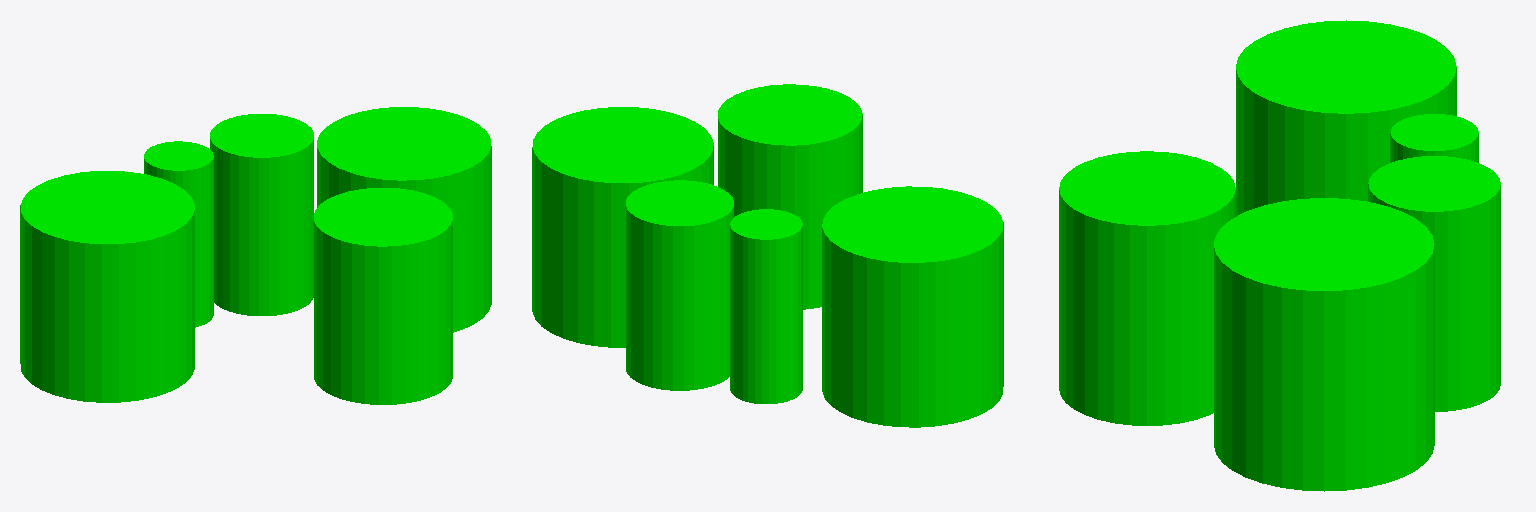
URDF robot description (walls):
<?xml version="1.0"?>
<robot name="walls">

   <link name="base_link">
      <inertial>
         <mass value="1"/>
         <inertia ixx="1" ixy="0" ixz="0" iyy="1" iyz="0" izz="1"/>
      </inertial>
   </link>

   <link name="obs0_link">
      <visual>
         <geometry>
            <cylinder radius="0.5" length="1.0"/>
         </geometry>
         <material name="green">
             <color rgba="0 1.0 0 0.5"/>
         </material>
      </visual>
      <collision>
         <geometry>
            <cylinder radius="0.5" length="1.0"/>
         </geometry>
      </collision>
      <inertial>
         <mass value="1"/>
         <inertia ixx="1" ixy="0" ixz="0" iyy="1" iyz="0" izz="1"/>
      </inertial>
   </link>

   <link name="obs1_link">
      <visual>
         <geometry>
            <cylinder radius="0.3" length="1.0"/>
         </geometry>
         <material name="green">
             <color rgba="0 1.0 0 0.5"/>
         </material>
      </visual>
      <collision>
         <geometry>
            <cylinder radius="0.3" length="1.0"/>
         </geometry>
      </collision>
      <inertial>
         <mass value="1"/>
         <inertia ixx="1" ixy="0" ixz="0" iyy="1" iyz="0" izz="1"/>
      </inertial>
   </link>

   <link name="obs2_link">
      <visual>
         <geometry>
            <cylinder radius="0.2" length="1.0"/>
         </geometry>
         <material name="green">
            <color rgba="0 1.0 0 0.5"/>
         </material>
      </visual>
      <collision>
         <geometry>
            <cylinder radius="0.2" length="1.0"/>
         </geometry>
      </collision>
      <inertial>
         <mass value="1"/>
         <inertia ixx="1" ixy="0" ixz="0" iyy="1" iyz="0" izz="1"/>
      </inertial>
   </link>

   <link name="obs3_link">
      <visual>
         <geometry>
            <cylinder radius="0.5" length="1.0"/>
         </geometry>
         <material name="green">
            <color rgba="0 1.0 0 0.5"/>
         </material>
      </visual>
      <collision>
         <geometry>
            <cylinder radius="0.5" length="1.0"/>
         </geometry>
      </collision>
      <inertial>
         <mass value="1"/>
         <inertia ixx="1" ixy="0" ixz="0" iyy="1" iyz="0" izz="1"/>
      </inertial>
   </link>

   <link name="obs4_link">
      <visual>
         <geometry>
            <cylinder radius="0.4" length="1.0"/>
         </geometry>
         <material name="green">
            <color rgba="0 1.0 0 0.5"/>
         </material>
      </visual>
      <collision>
         <geometry>
            <cylinder radius="0.4" length="1.0"/>
         </geometry>
      </collision>
      <inertial>
         <mass value="1"/>
         <inertia ixx="1" ixy="0" ixz="0" iyy="1" iyz="0" izz="1"/>
      </inertial>
   </link>

   <joint name="obs0_joint" type="fixed">
      <origin xyz="0.9 0 0" rpy="0 0 0"/>
      <parent link="base_link"/>
      <child link="obs0_link"/>
   </joint>

   <joint name="obs1_joint" type="fixed">
      <origin xyz="0.25 0.5 0" rpy="0 0 0"/>
      <parent link="base_link"/>
      <child link="obs1_link"/>
   </joint>

   <joint name="obs2_joint" type="fixed">
      <origin xyz="-0.3 0.5 0" rpy="0 0 0"/>
      <parent link="base_link"/>
      <child link="obs2_link"/>
   </joint>

   <joint name="obs3_joint" type="fixed">
      <origin xyz="-1 0.1 0" rpy="0 0 0"/>
      <parent link="base_link"/>
      <child link="obs3_link"/>
   </joint>

   <joint name="obs4_joint" type="fixed">
      <origin xyz="0.3 -0.8 0" rpy="0 0 0"/>
      <parent link="base_link"/>
      <child link="obs4_link"/>
   </joint>

</robot>

--- What the picture shows (computed from the rendered views, not written in the file) ---
Views: 3 orthographic renders of the robot side by side, from view 1: azimuth 30°, elevation 25°; view 2: azimuth 150°, elevation 25°; view 3: azimuth 270°, elevation 25°.
Robot: walls — 6 links, 5 joints (5 fixed); root link base_link; default pose: every joint at zero.
Links seen in each view (by area): view 1: obs3_link, obs4_link, obs1_link, obs0_link, obs2_link; view 2: obs3_link, obs0_link, obs1_link, obs4_link, obs2_link; view 3: obs0_link, obs4_link, obs3_link, obs1_link, obs2_link.
Boxes of the visible links, box(x1,y1,x2,y2) form: obs3_link: box(20, 171, 194, 402); obs4_link: box(314, 188, 452, 404); obs1_link: box(210, 114, 313, 315); obs0_link: box(317, 107, 491, 332); obs2_link: box(144, 141, 213, 327); obs3_link: box(822, 186, 1003, 427); obs0_link: box(532, 107, 713, 347); obs1_link: box(626, 180, 733, 390); obs4_link: box(718, 84, 862, 309); obs2_link: box(730, 209, 802, 403); obs0_link: box(1214, 198, 1434, 491); obs4_link: box(1059, 151, 1235, 425); obs3_link: box(1236, 20, 1456, 216); obs1_link: box(1368, 156, 1500, 411); obs2_link: box(1390, 114, 1478, 162).
Size in the robot's own frame: 2.9 by 2 by 1 metres.
Geometry: primitives only (box / cylinder / sphere), no mesh files.